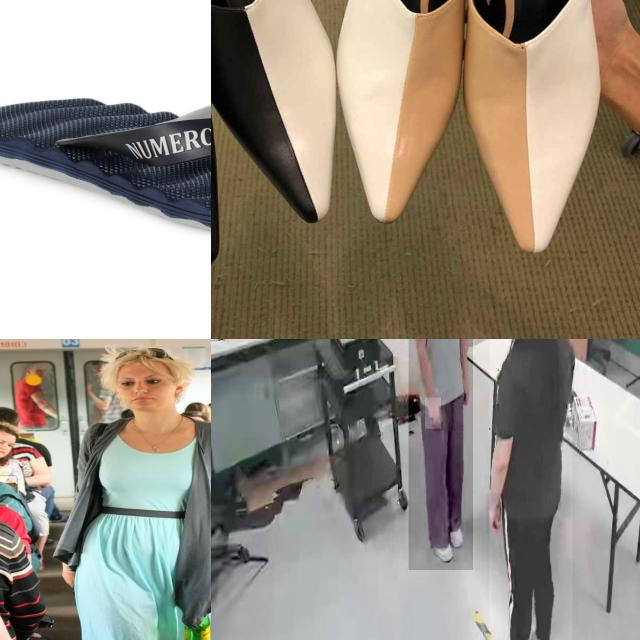Sandals: (318, 0, 623, 280), (211, 0, 346, 277), (0, 88, 211, 238)
hand_noglove: (486, 494, 504, 534), (425, 398, 441, 430), (462, 376, 470, 406)
person: (489, 339, 572, 640), (408, 339, 473, 570)
shoes: (427, 527, 455, 565), (516, 617, 551, 640), (446, 509, 466, 548)
